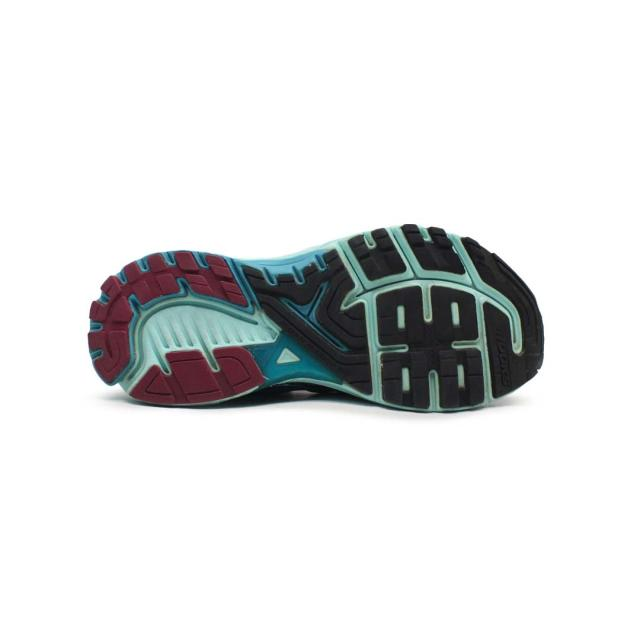outersole: (87, 225, 546, 415)
